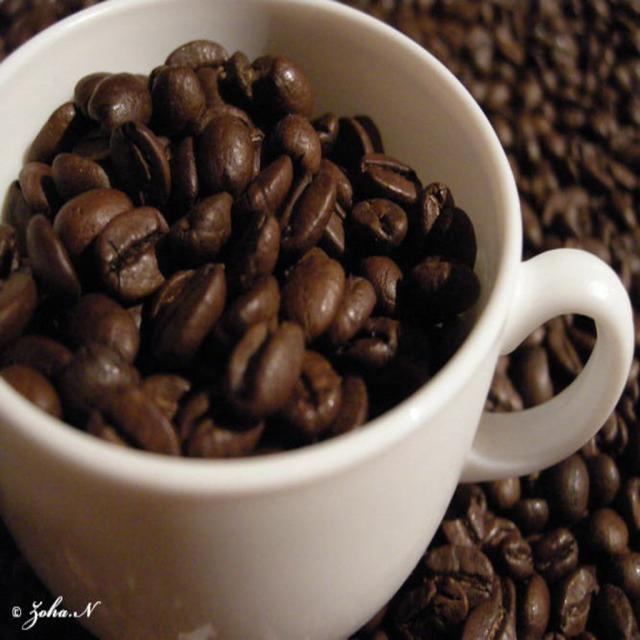Coffee: (0, 0, 639, 638)
